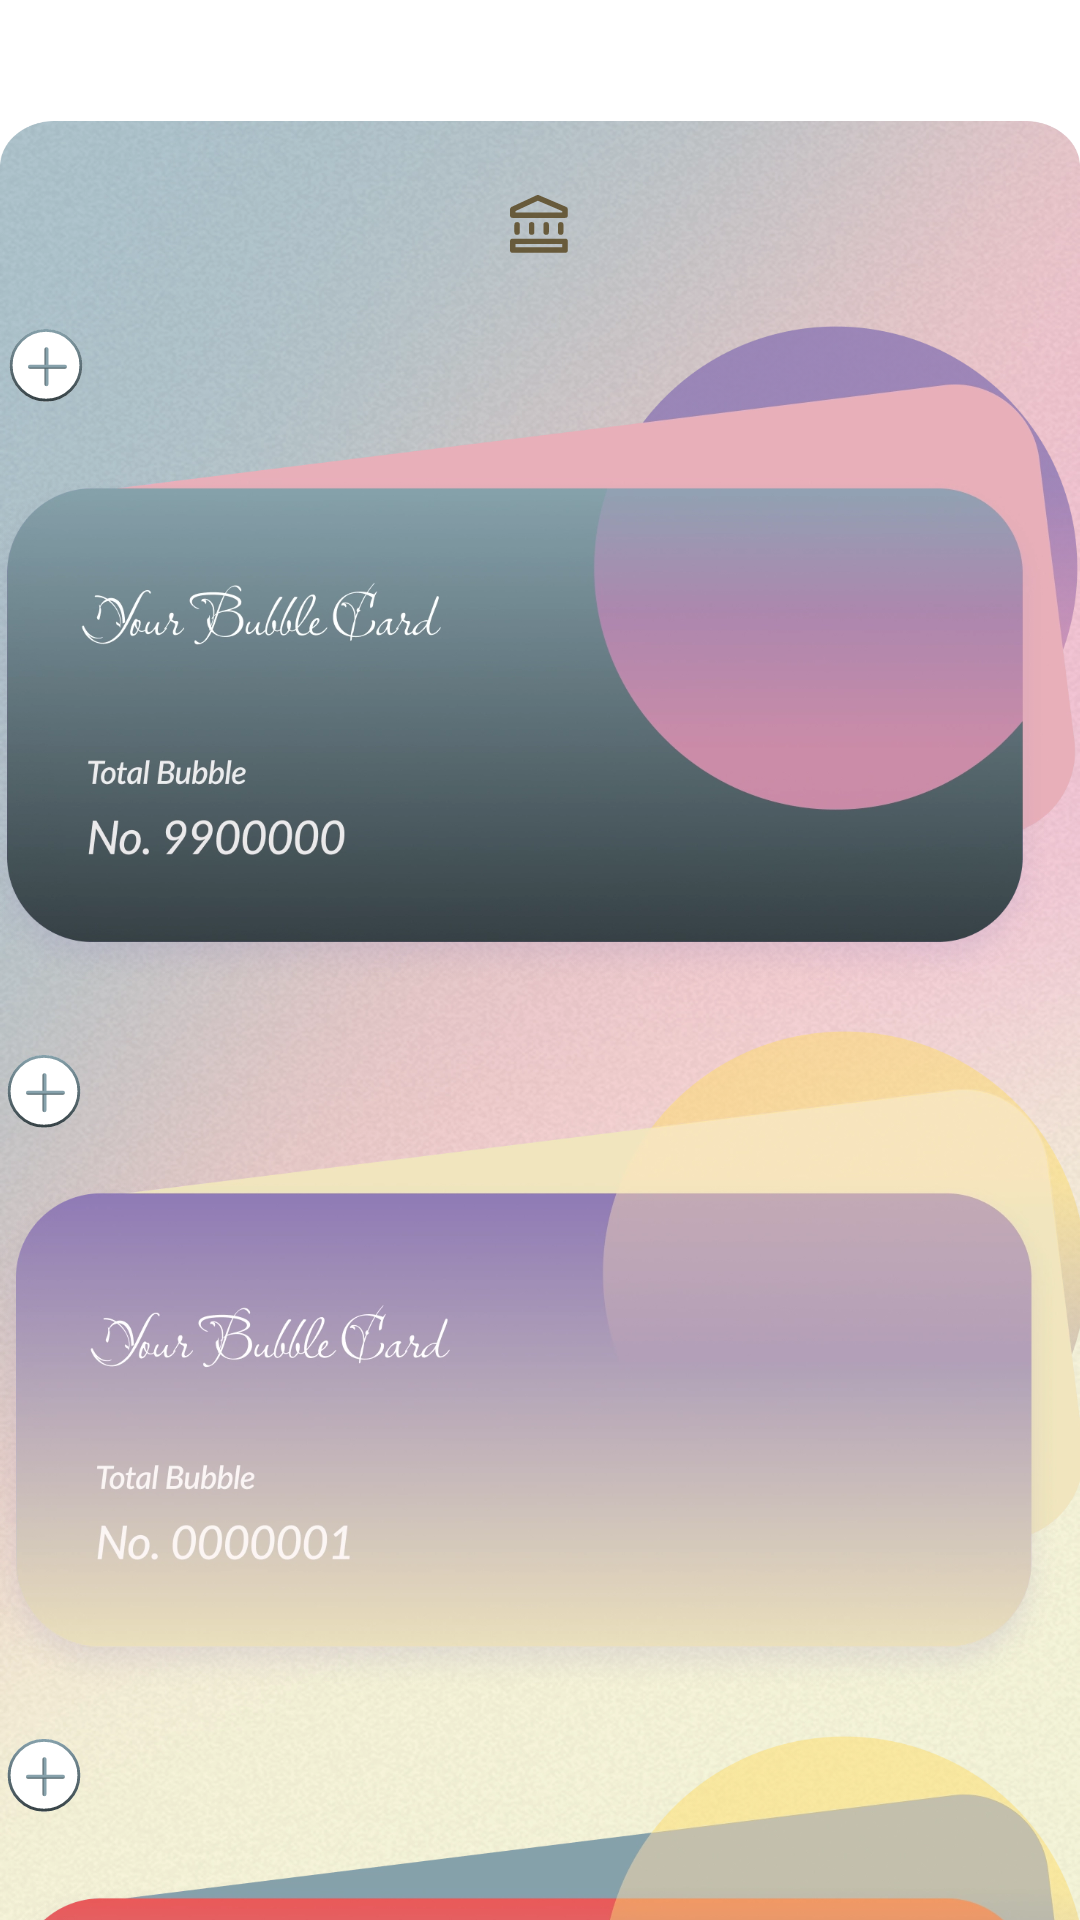

Screen size 1080x1920. Icon name, then its center in pixels as (x,y):
add card: (46,365), (44,1091), (44,1775)
